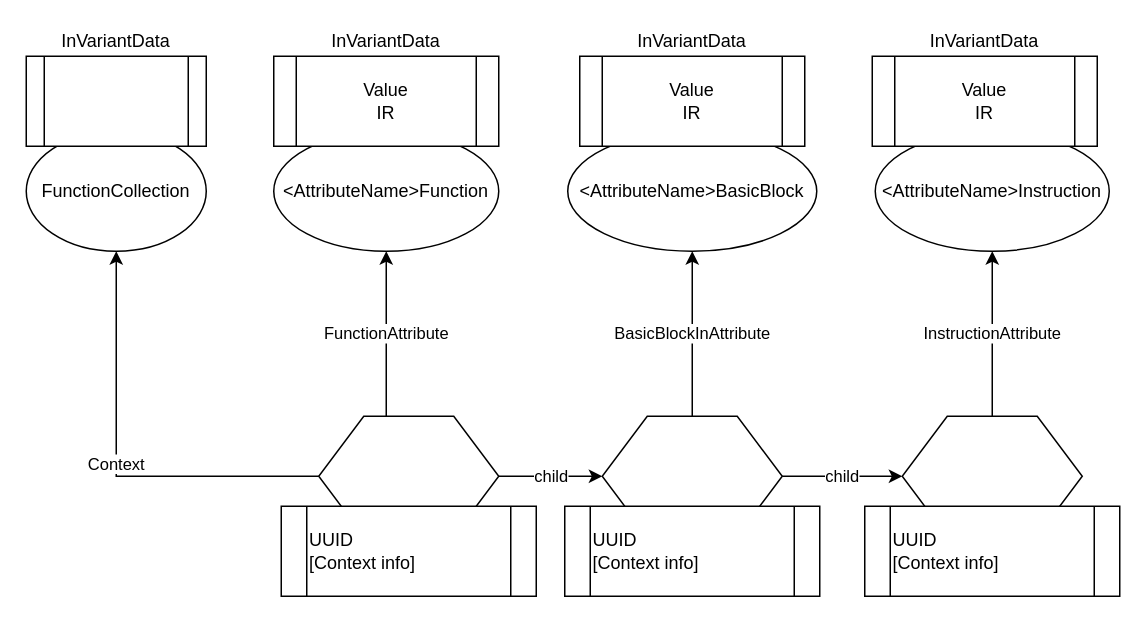
Some shapes in this 1146 by 623 pixel diagram are drawn without their labels. Here are the shapes that lost their labels. From the top down, the centre of each, then its label:
At (115,100): "Filename Arch UUID".
At (408,475): "Function".
At (691,475): "BasicBlock".
At (991,475): "Instruction".
